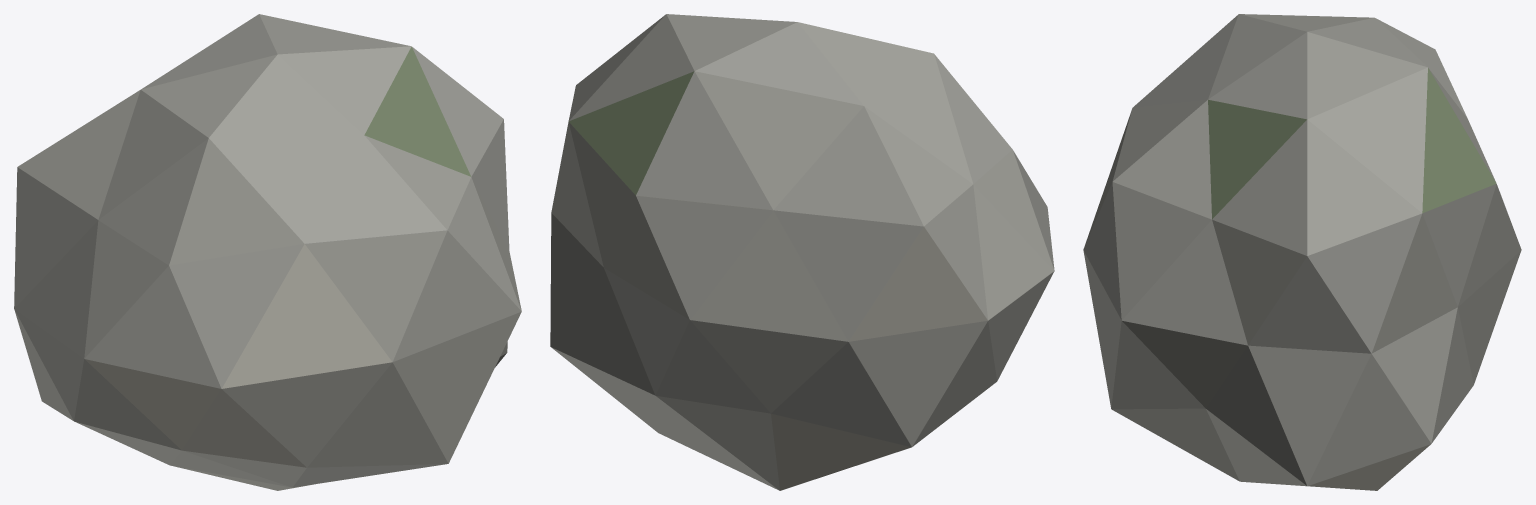
Rendered from small_rock_b.glb.
3 renders of one model, left to right at view 1: azimuth 30°, elevation 25°; view 2: azimuth 150°, elevation 25°; view 3: azimuth 270°, elevation 25°, orthographic. The views are drawn at different scales.
Parts seen in each view (by area): view 1: small_rock_b LOD0; view 2: small_rock_b LOD0; view 3: small_rock_b LOD0.
Part boxes in pixels (x1,y1,x2,y2): small_rock_b LOD0: (14,14,521,490); small_rock_b LOD0: (550,14,1054,490); small_rock_b LOD0: (1083,14,1521,490).
Size of what is drawn, in the model's own units: 1.58 by 1.44 by 1.34.
